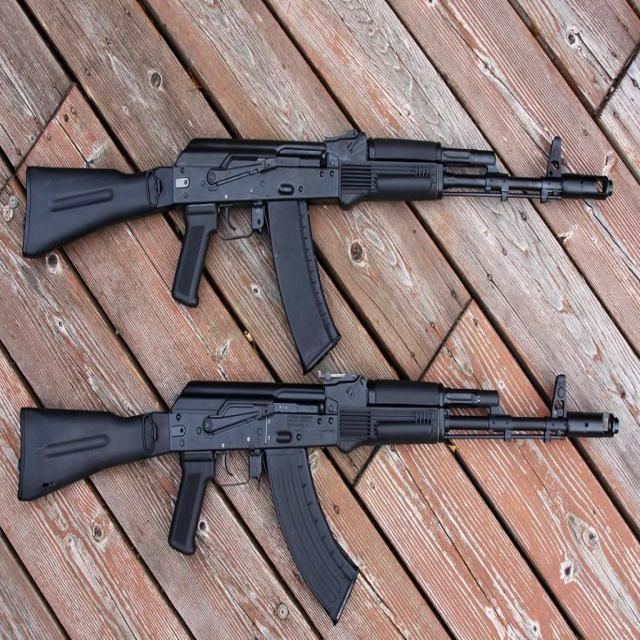weapon: (16, 372, 622, 629), (20, 129, 615, 376)
